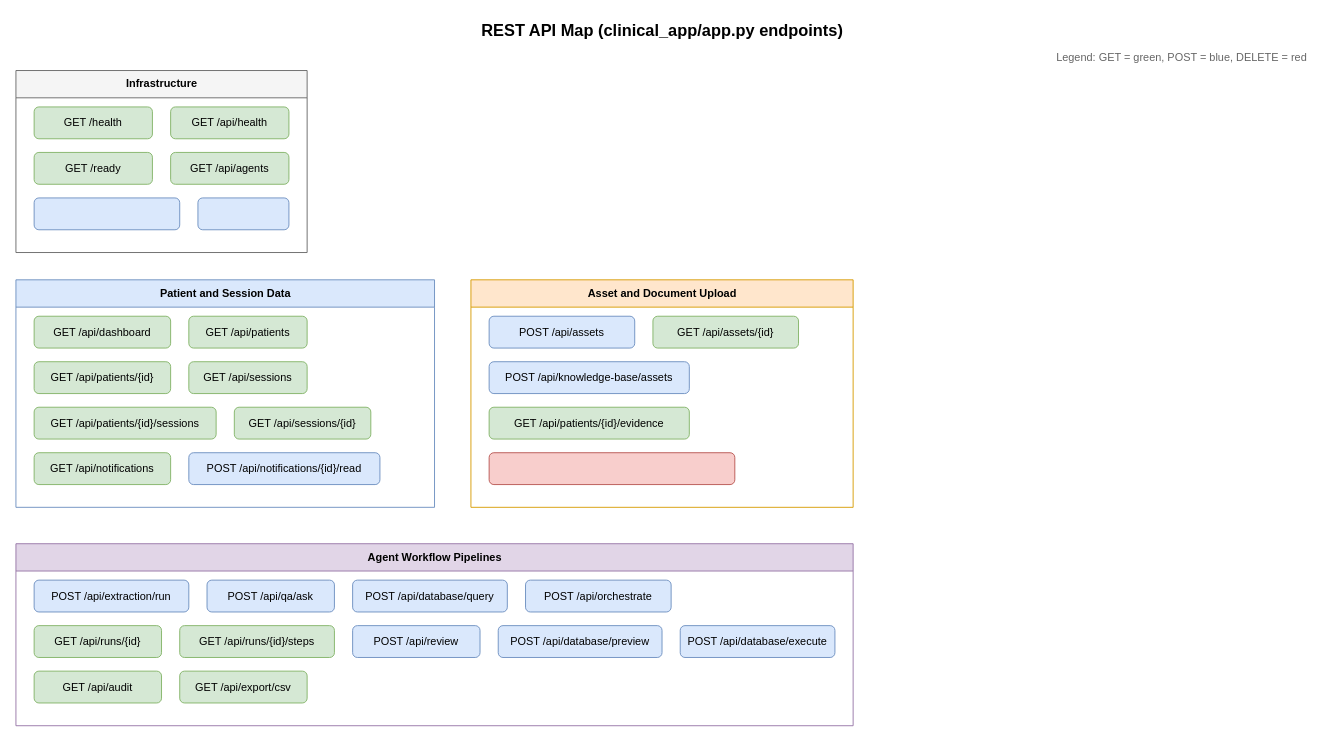
Image size: 1324x742. Some labels were removed from this diagram. Here are the shapes that lost their labels. From the top down, the centre of each, then its label:
point 106,213: POST /api/demo/session
point 243,213: POST /api/demo/reset
point 611,468: DELETE /api/patients/{id}/evidence/{eid}
